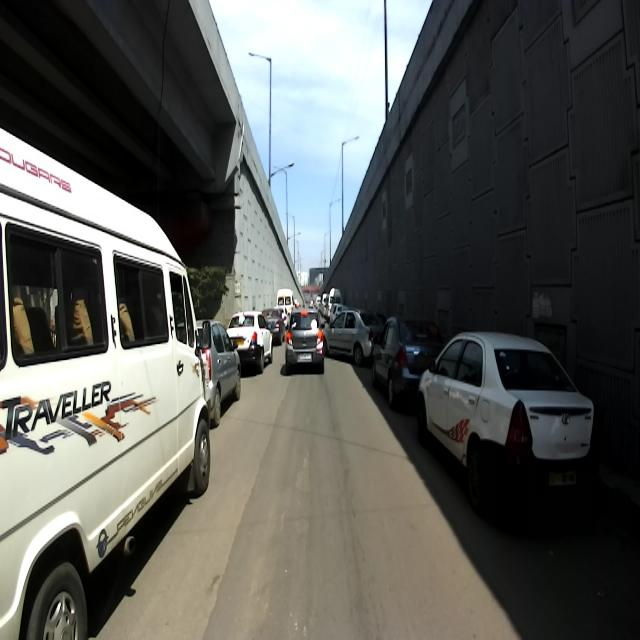car: (416, 328, 598, 525), (372, 316, 444, 407), (322, 308, 384, 366)
mini-bus: (0, 127, 211, 639)
